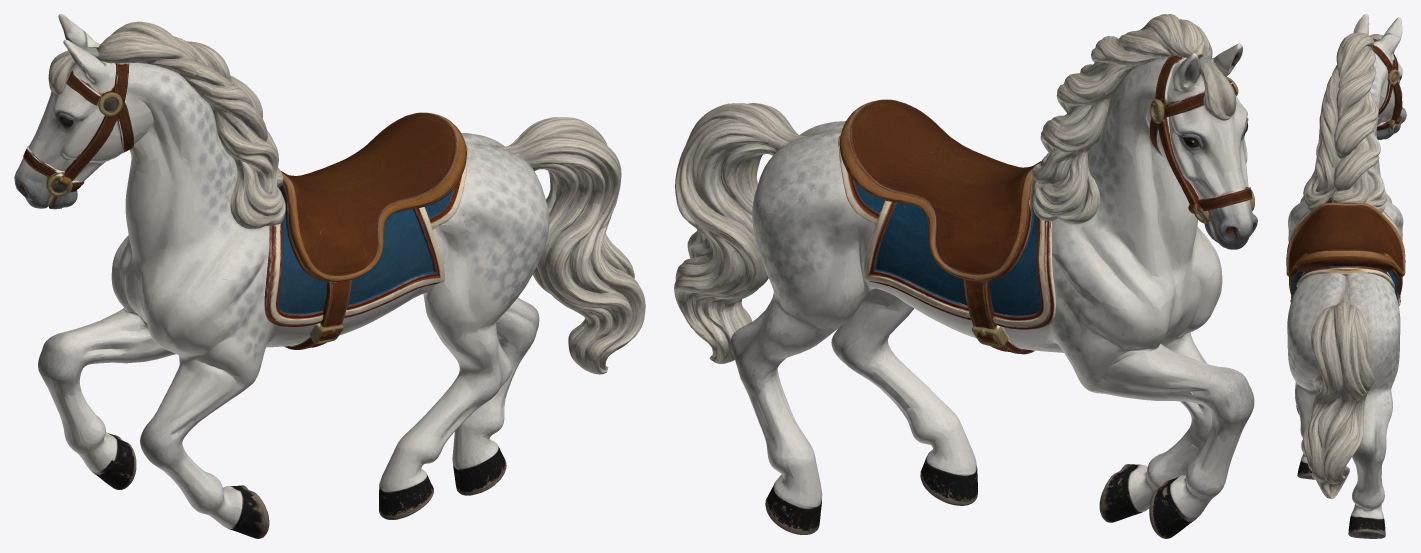
The model's file is horse.glb.
The picture shows the model from 3 angles, left to right: view 1: azimuth 30°, elevation 25°; view 2: azimuth 150°, elevation 25°; view 3: azimuth 270°, elevation 25°; orthographic projection. The views are drawn at different scales.
Bounding box in the file's own units: 1.9 × 1.75 × 0.4879.
1 material, 1 textured.
